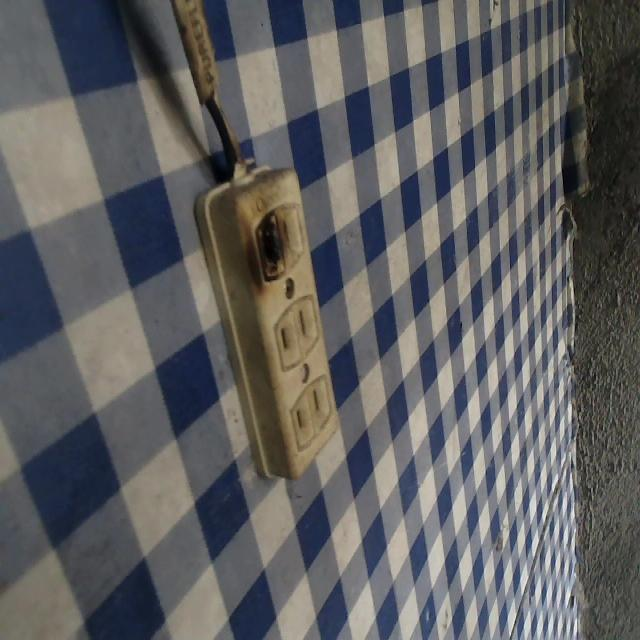-: (241, 200, 291, 287)
